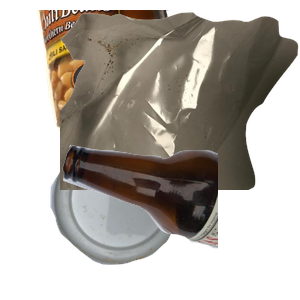glass: (60, 142, 300, 300)
metal: (34, 10, 213, 135)
plastic: (48, 132, 224, 300)
trash: (60, 10, 300, 190)
